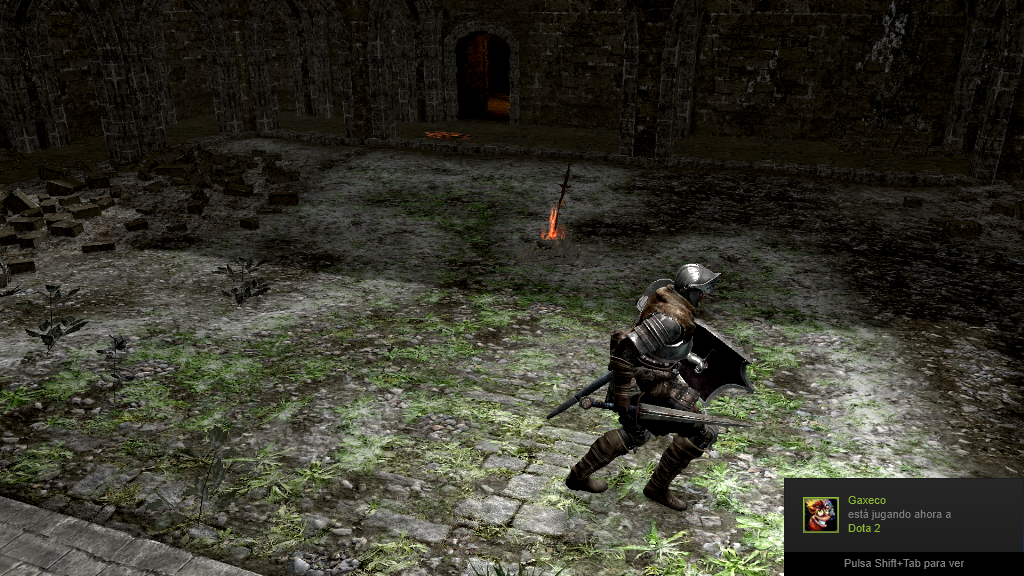bonfire: (540, 163, 575, 243)
player: (565, 261, 758, 513)
